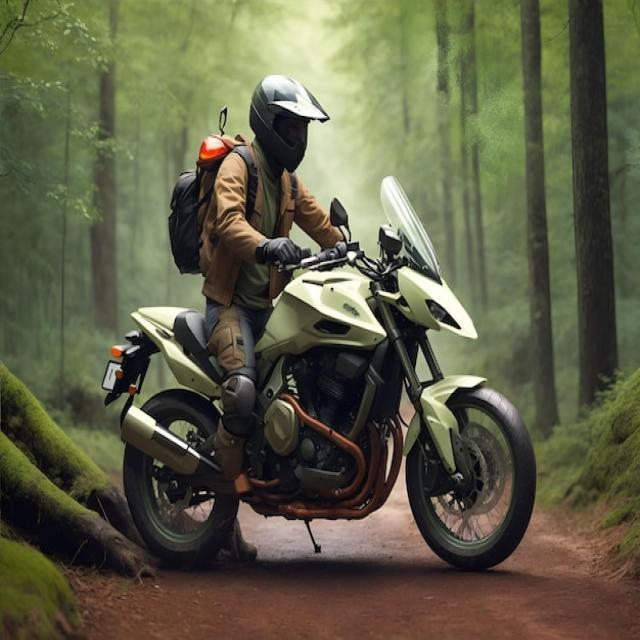Bike: (114, 227, 536, 568)
